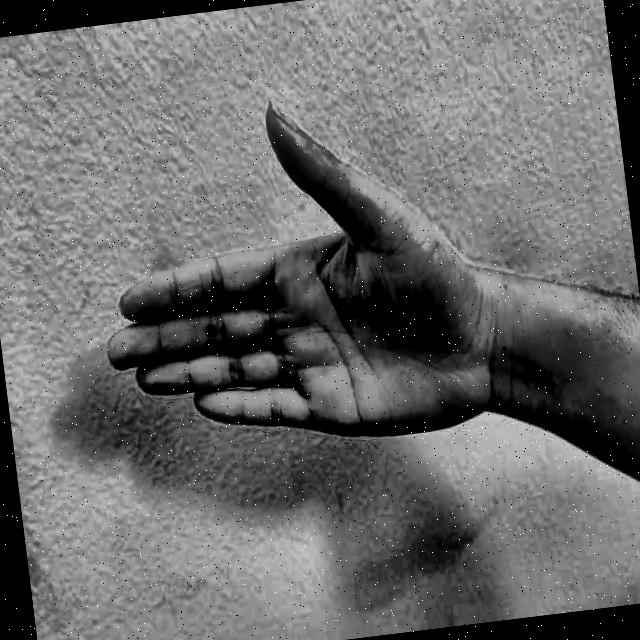Aa: (48, 48, 503, 496)
